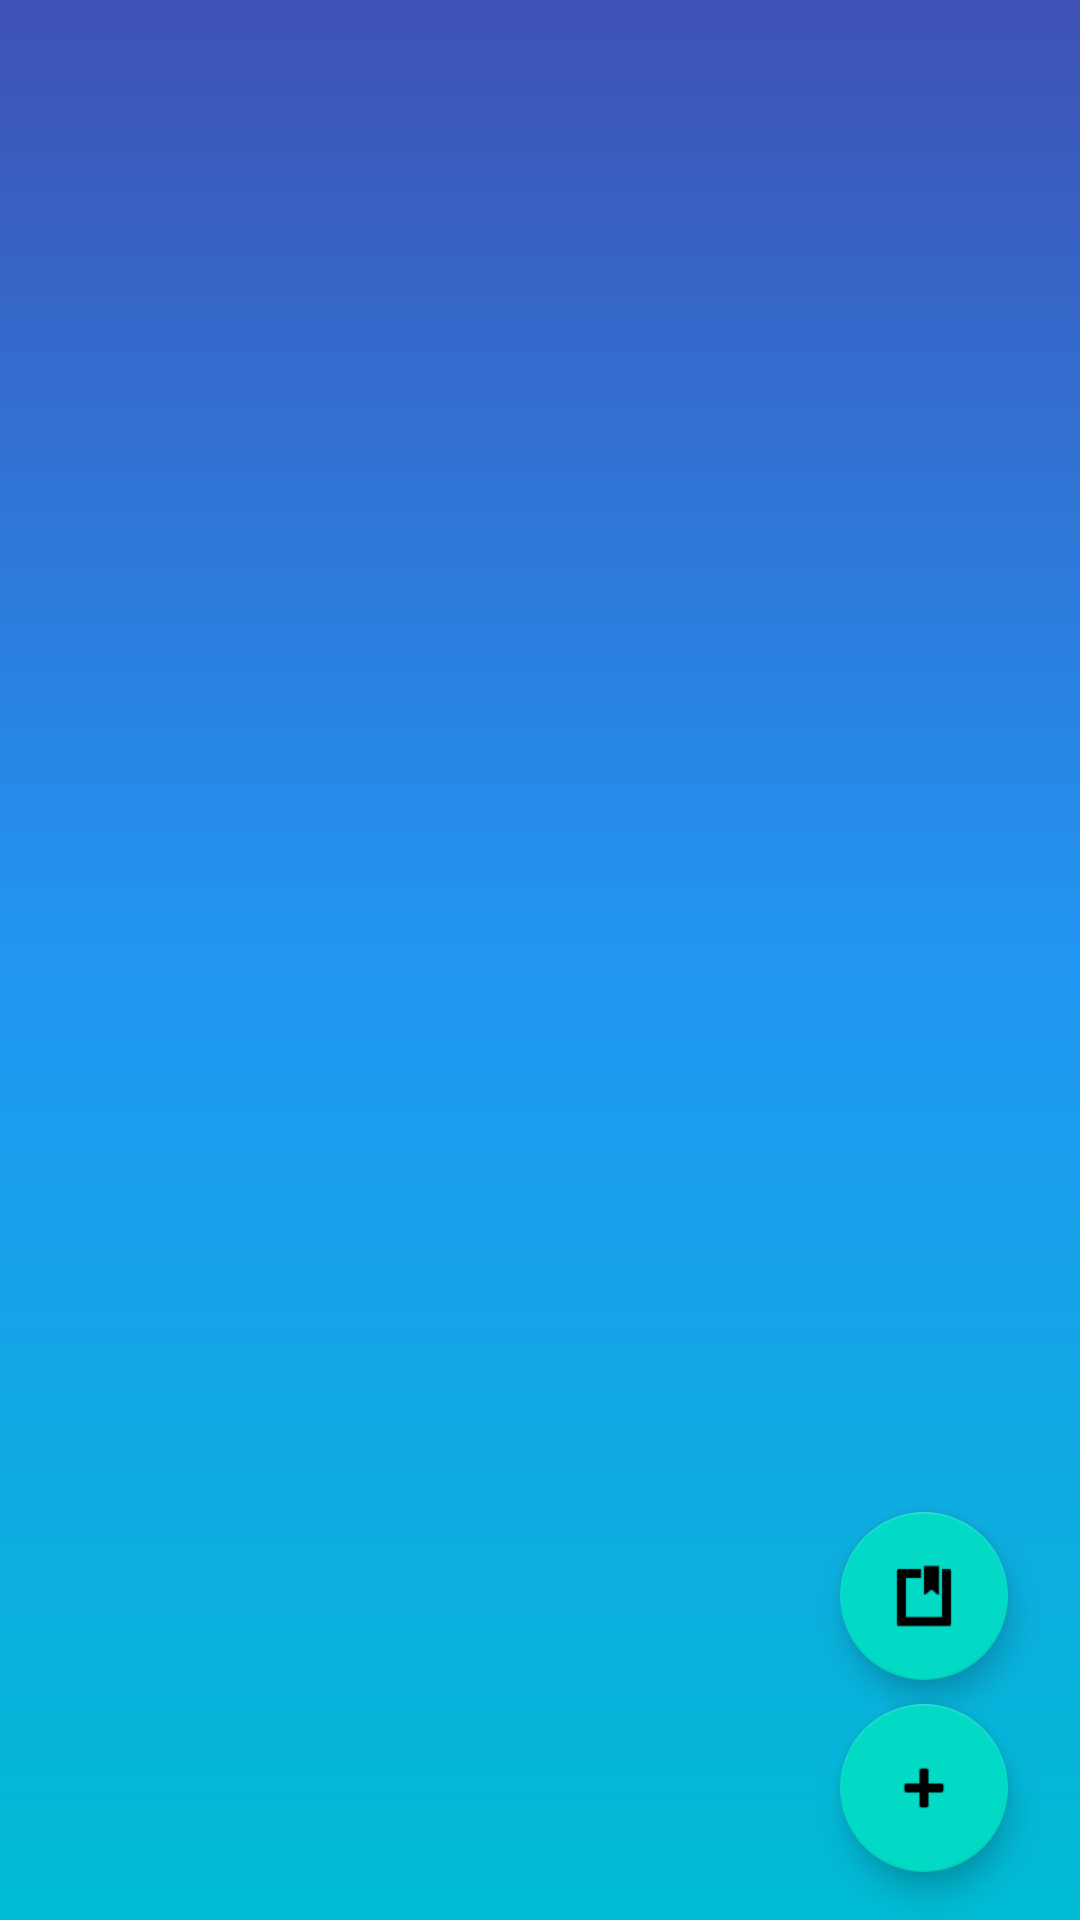

Screen size 1080×1920. Icon name, then its box in pixels as rect(x1, y1, x2, y2):
add: rect(840, 1704, 1008, 1872)
